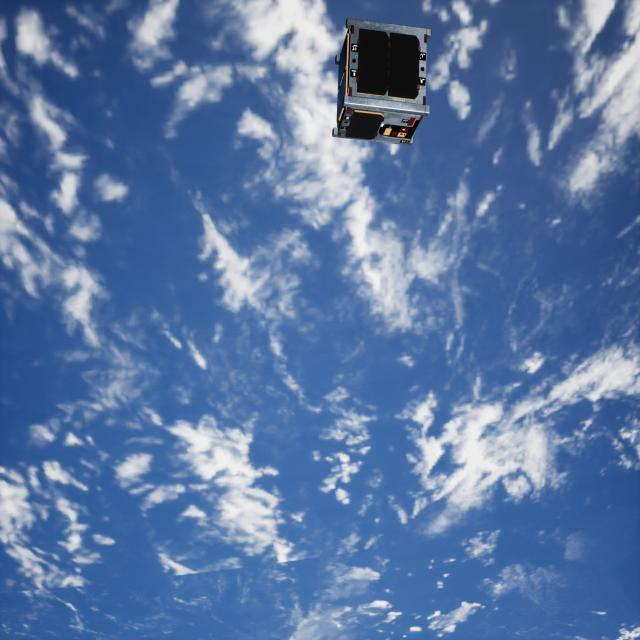medium_debris: (332, 20, 442, 144)
